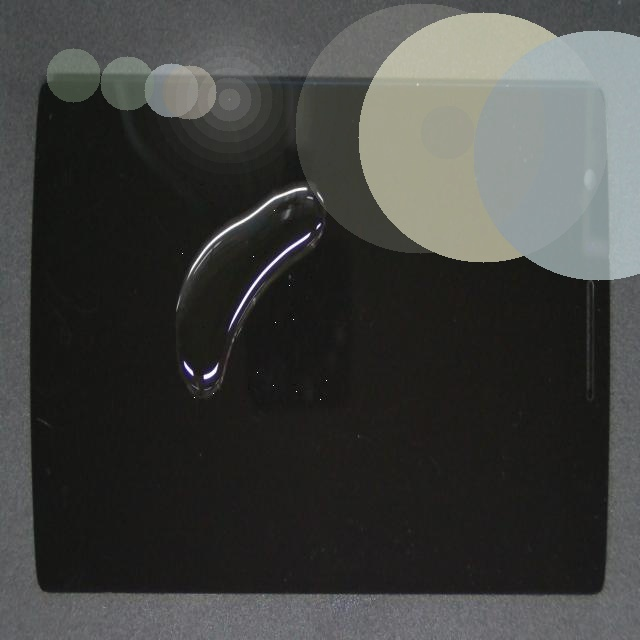oil: (89, 99, 266, 470)
